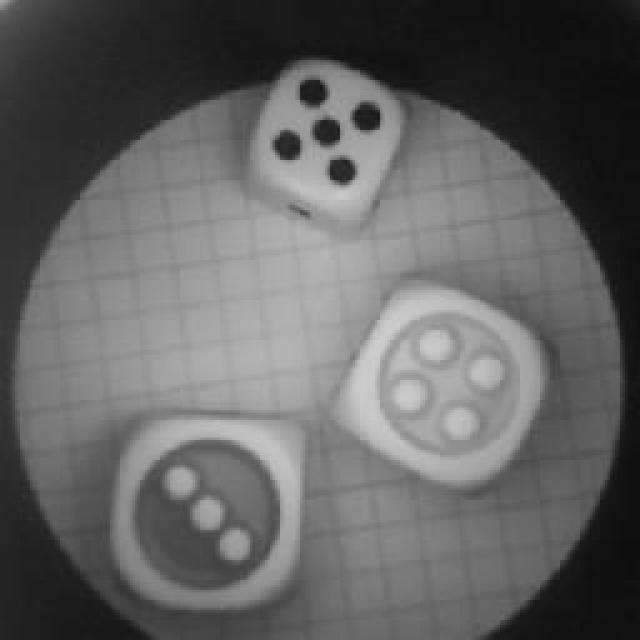dice_3: (95, 400, 315, 618)
dice_4: (330, 265, 562, 490)
dice_5: (245, 55, 407, 223)
